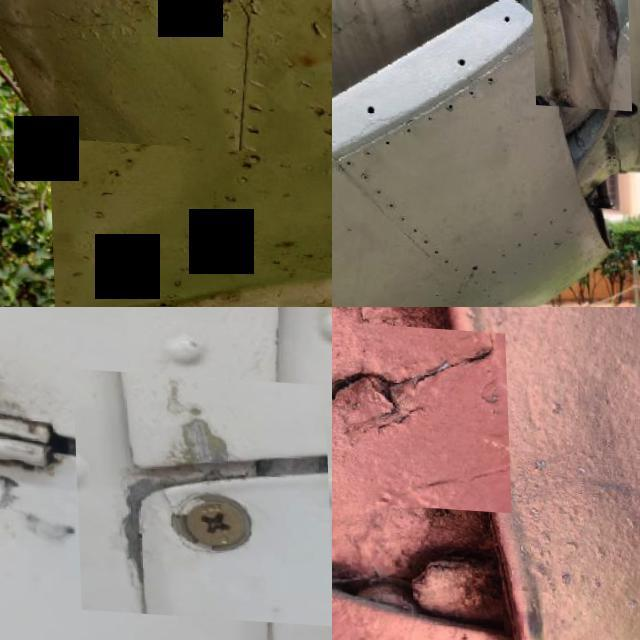Crack: (71, 365, 330, 619), (332, 310, 509, 507), (226, 230, 274, 278)
Dent: (46, 136, 332, 307), (528, 0, 628, 105), (91, 281, 242, 307)
